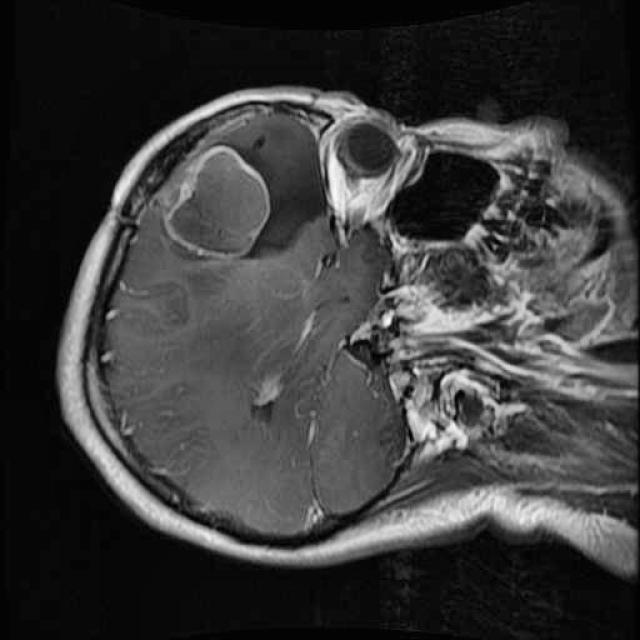Tumor: (147, 130, 286, 282)
